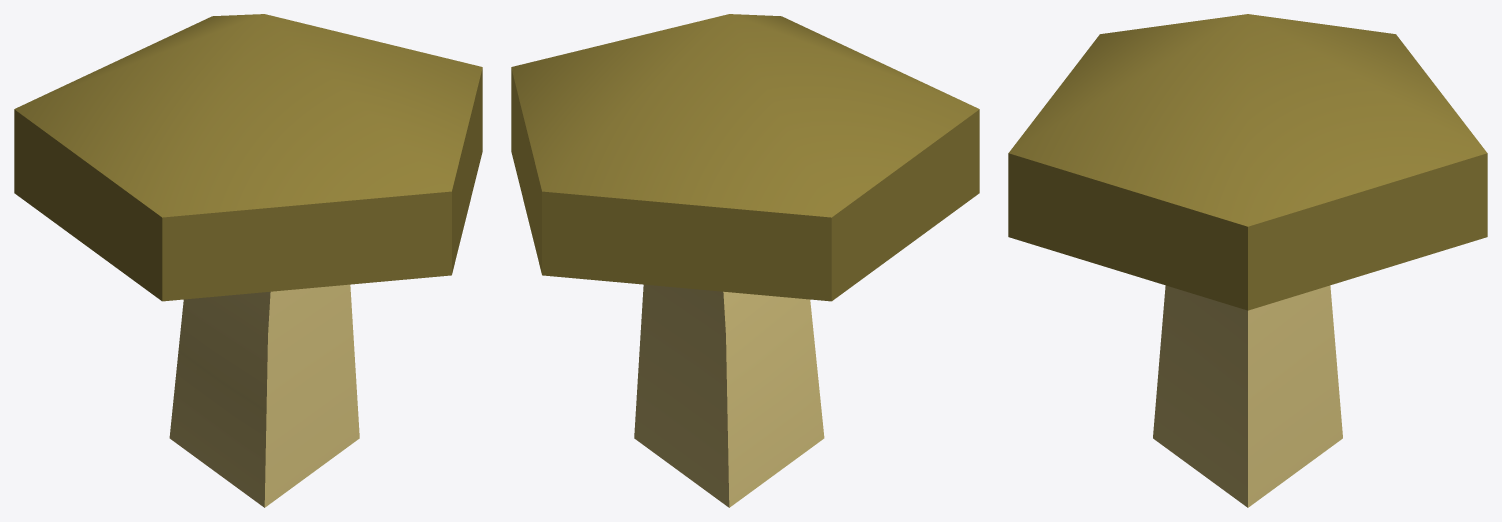
The model's file is 08_mushroom.fbx.
The picture shows the model from 3 angles, left to right: view 1: azimuth 30°, elevation 25°; view 2: azimuth 150°, elevation 25°; view 3: azimuth 270°, elevation 25°; orthographic projection.
Visible parts, largest first — view 1: pCylinder3; view 2: pCylinder3; view 3: pCylinder3.
Part boxes in pixels (x1=…): pCylinder3: x1=14, y1=14, x2=482, y2=507; pCylinder3: x1=511, y1=14, x2=979, y2=507; pCylinder3: x1=1008, y1=14, x2=1487, y2=507.
Bounding box in the file's own units: 1.66 × 1.8 × 1.74.
